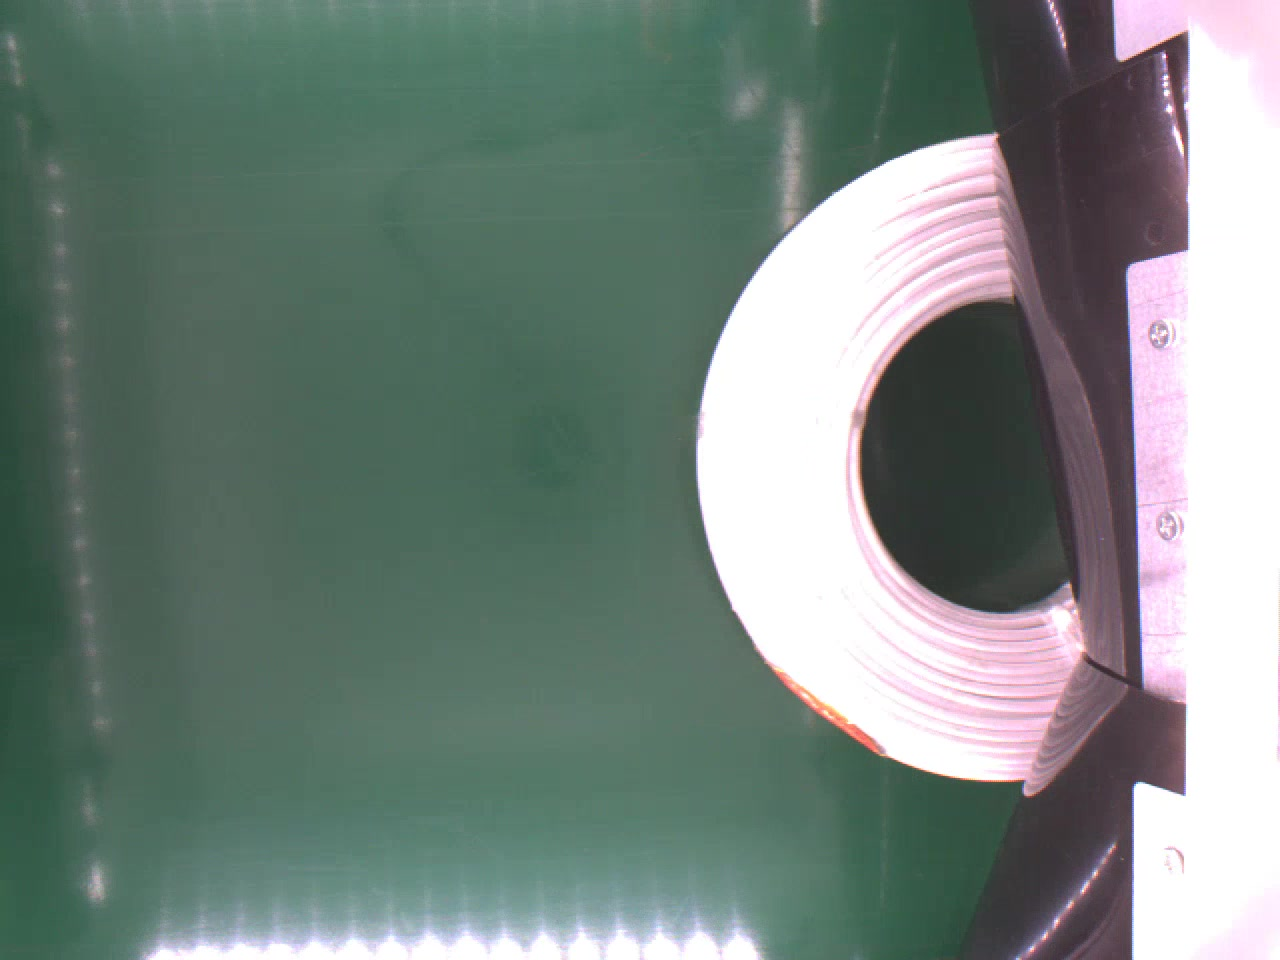white: (696, 129, 1084, 783)
